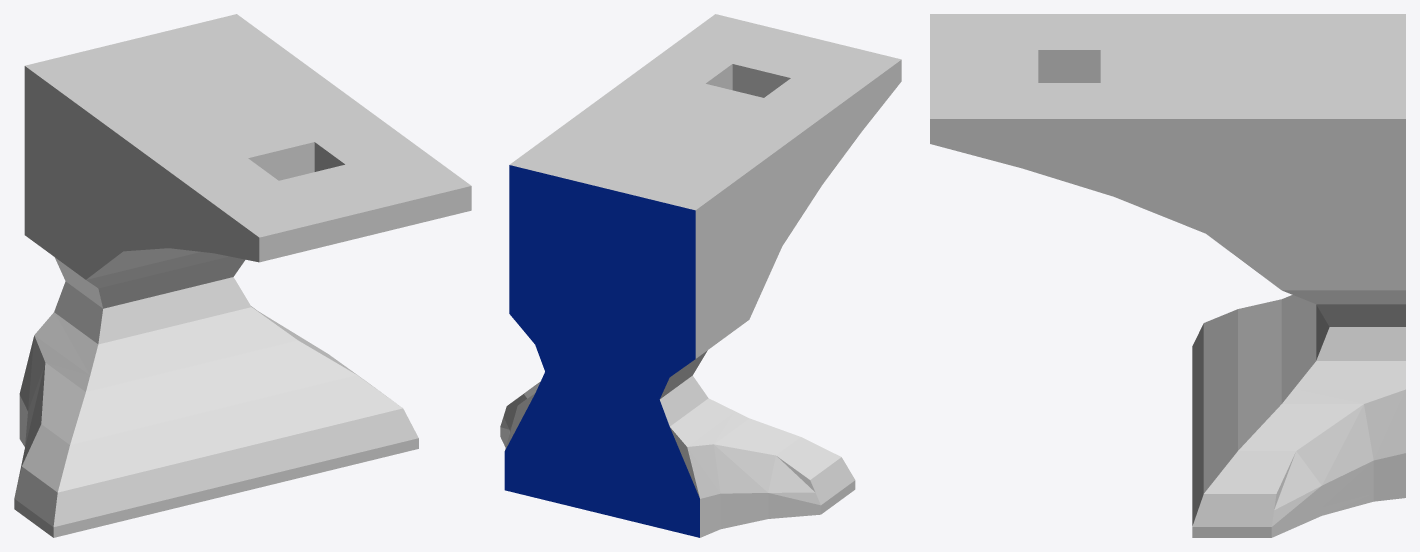
Rendered from Anvil_low_1.fbx.
3 renders of one model, left to right at view 1: azimuth 30°, elevation 25°; view 2: azimuth 150°, elevation 25°; view 3: azimuth 270°, elevation 25°, orthographic. The views are drawn at different scales.
Visible parts, largest first — view 1: Anvil_low; view 2: Anvil_low; view 3: Anvil_low.
Boxes of the visible parts, <box> form: Anvil_low: <box>14,14,471,537</box>; Anvil_low: <box>500,14,901,537</box>; Anvil_low: <box>930,14,1405,537</box>.
Bounding box in the file's own units: 1.75 × 1.72 × 1.95.
